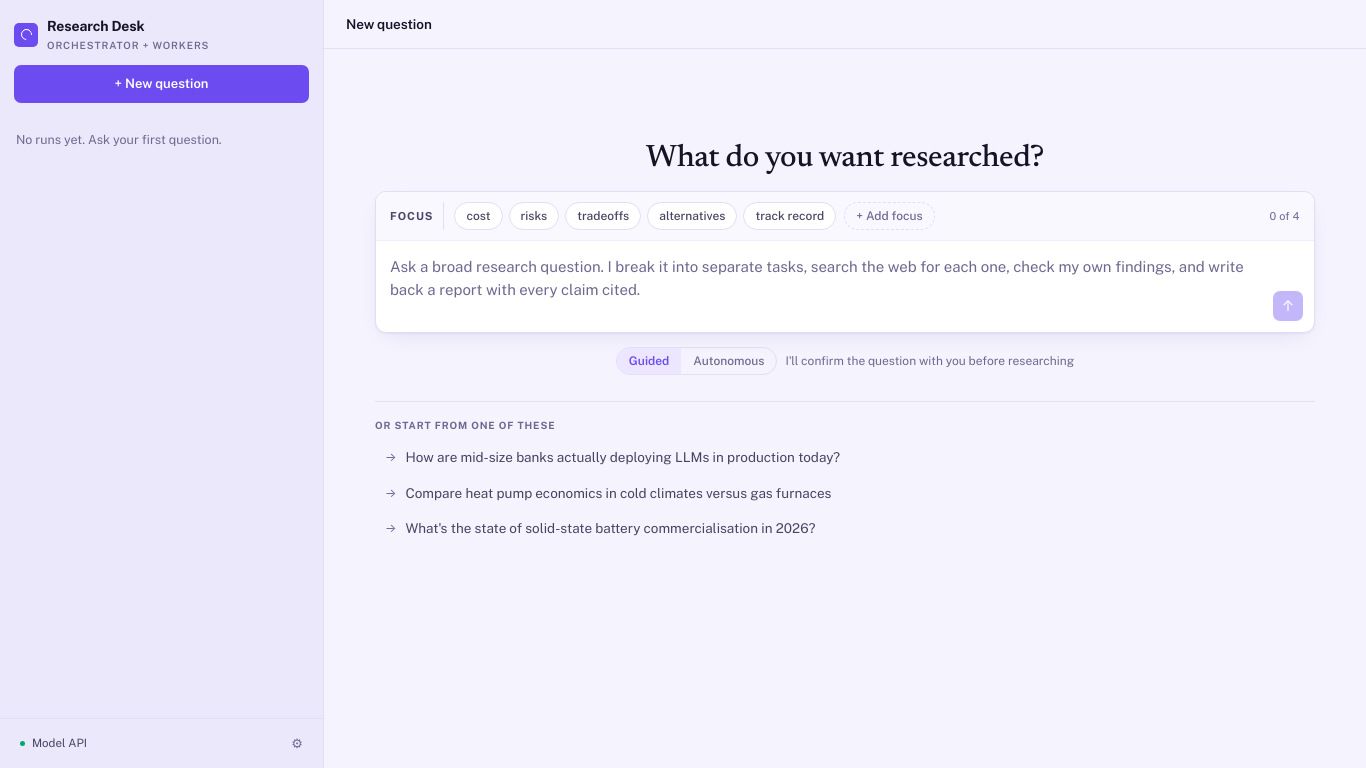
it: App › stops the user selecting more than four dimensions
Click the button "cost". click: (479, 216)
box: [454,202,503,230]
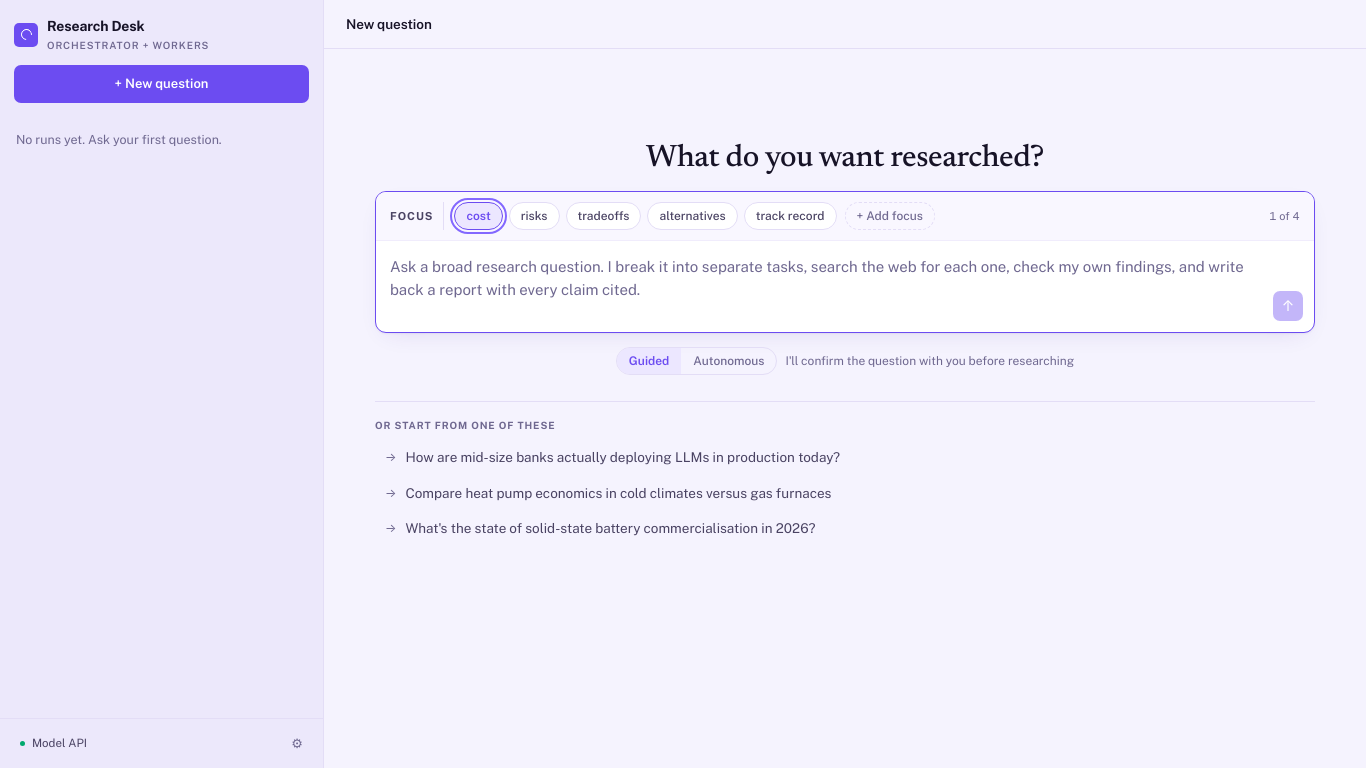
Click the button "risks". click: (534, 216)
box: [509,202,560,230]
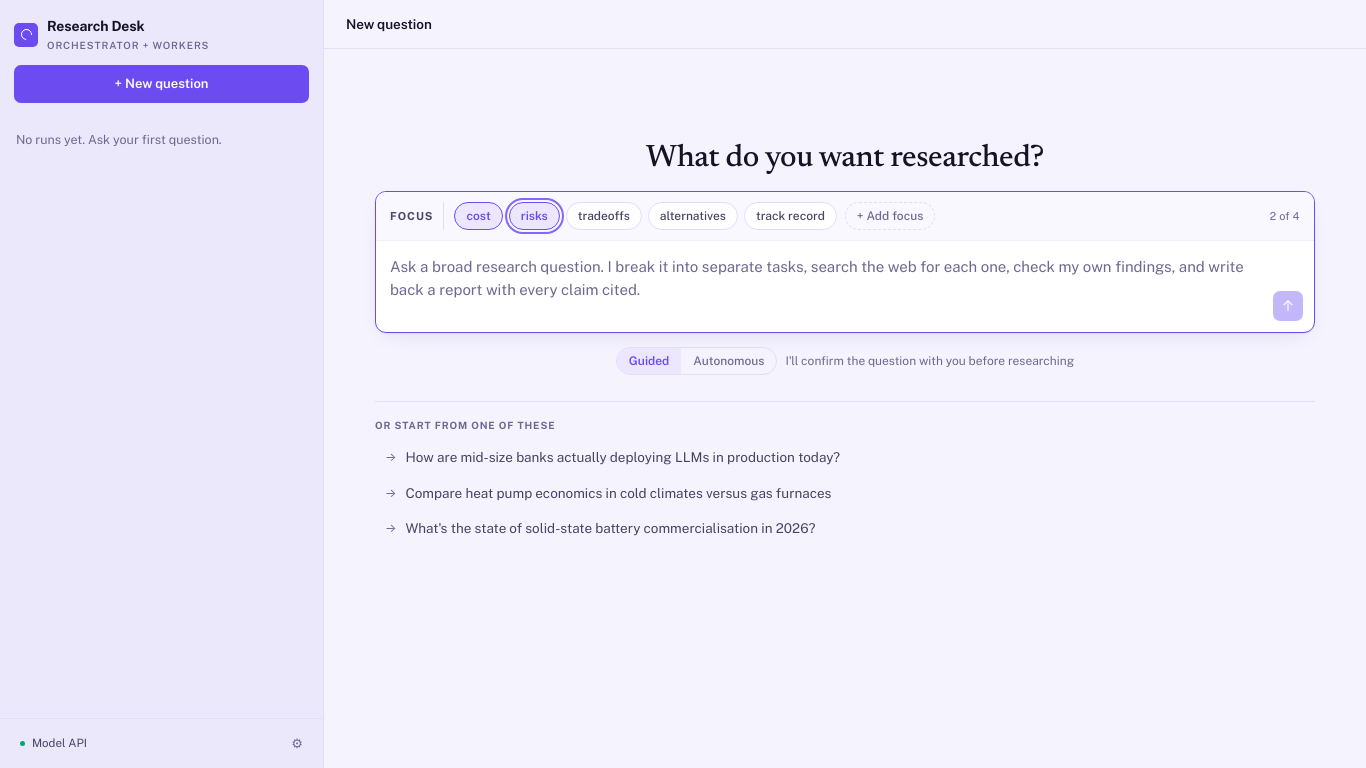
Click the button "tradeoffs". click: (604, 216)
box: [566,202,642,230]
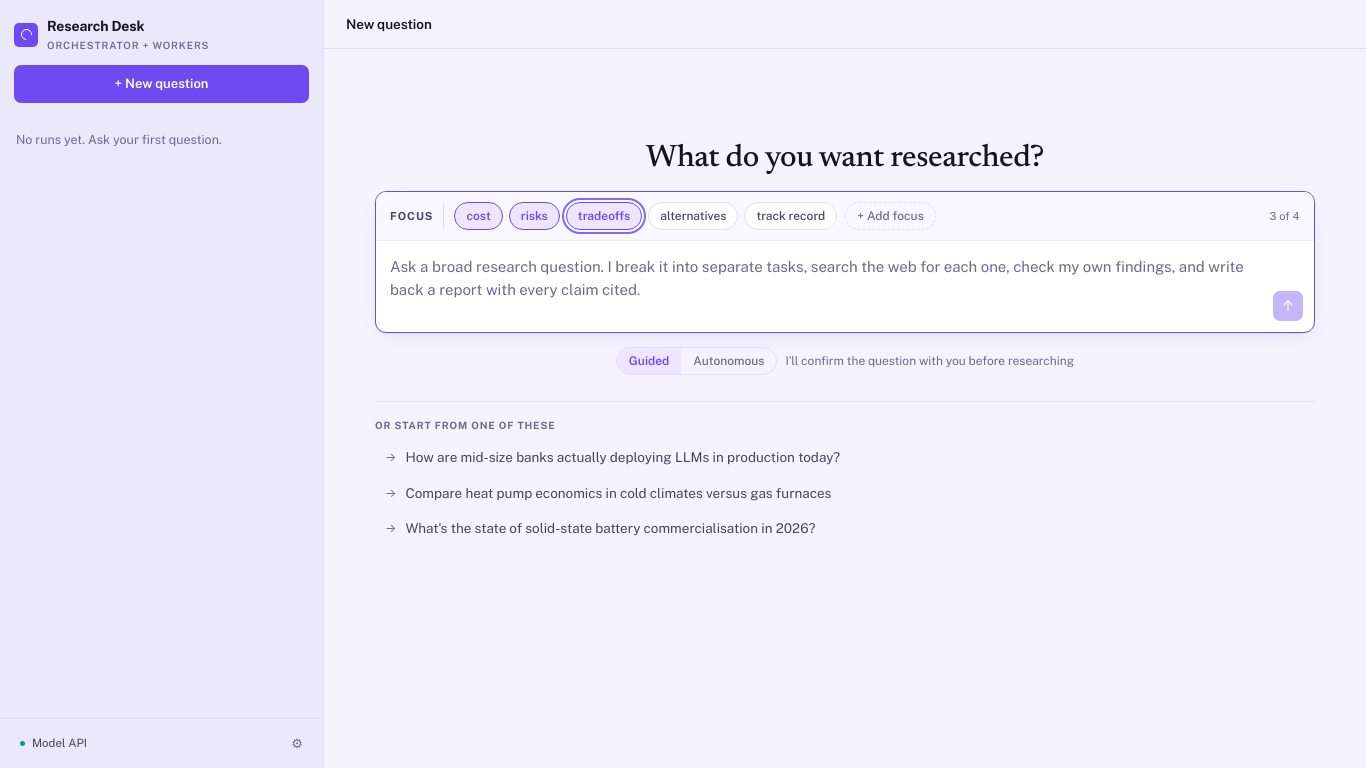
Click the button "alternatives". click: (693, 216)
box: [648,202,738,230]
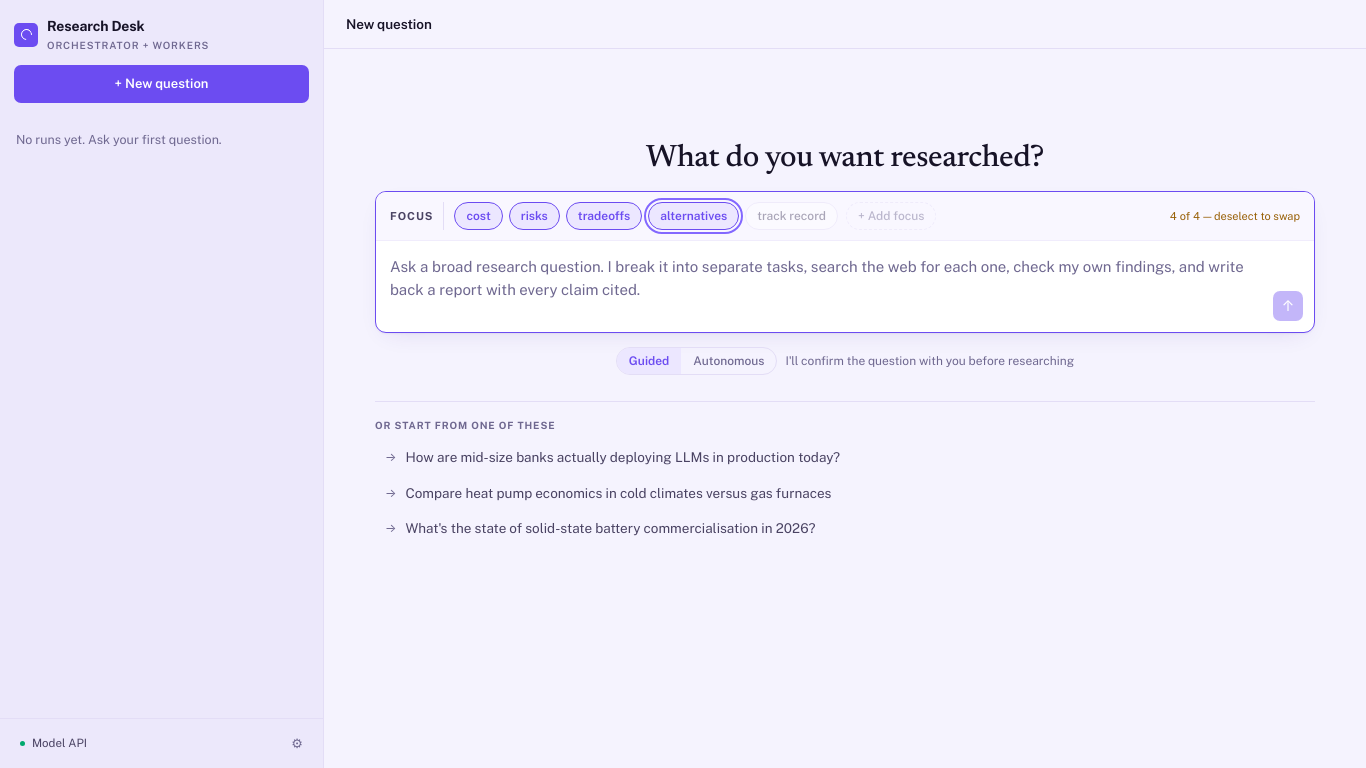
Expected: the button "track record" is disabled, [745,202,838,230]
Expected: the button "+ Add focus" is disabled, [846,202,936,230]
Expected: the text "4 of 4 — deselect to swap" is shown, [1170,208,1300,224]
